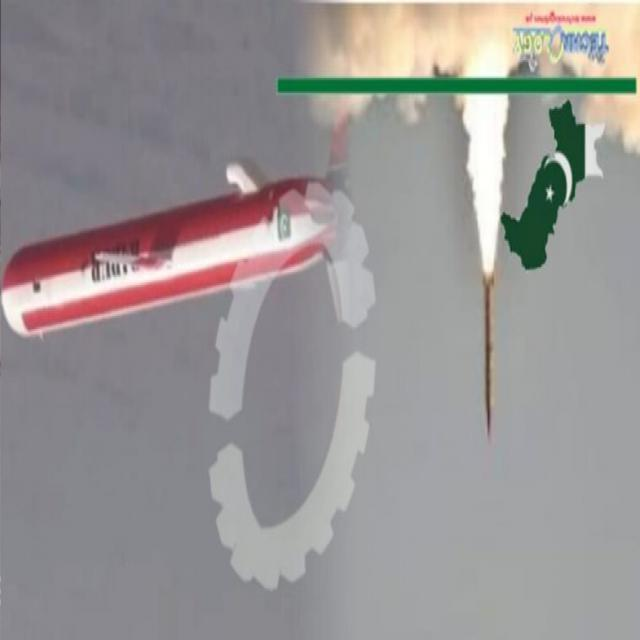Missile: (4, 162, 354, 336), (479, 262, 498, 443)
